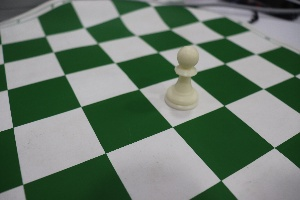white_pawn: (161, 36, 207, 122)
